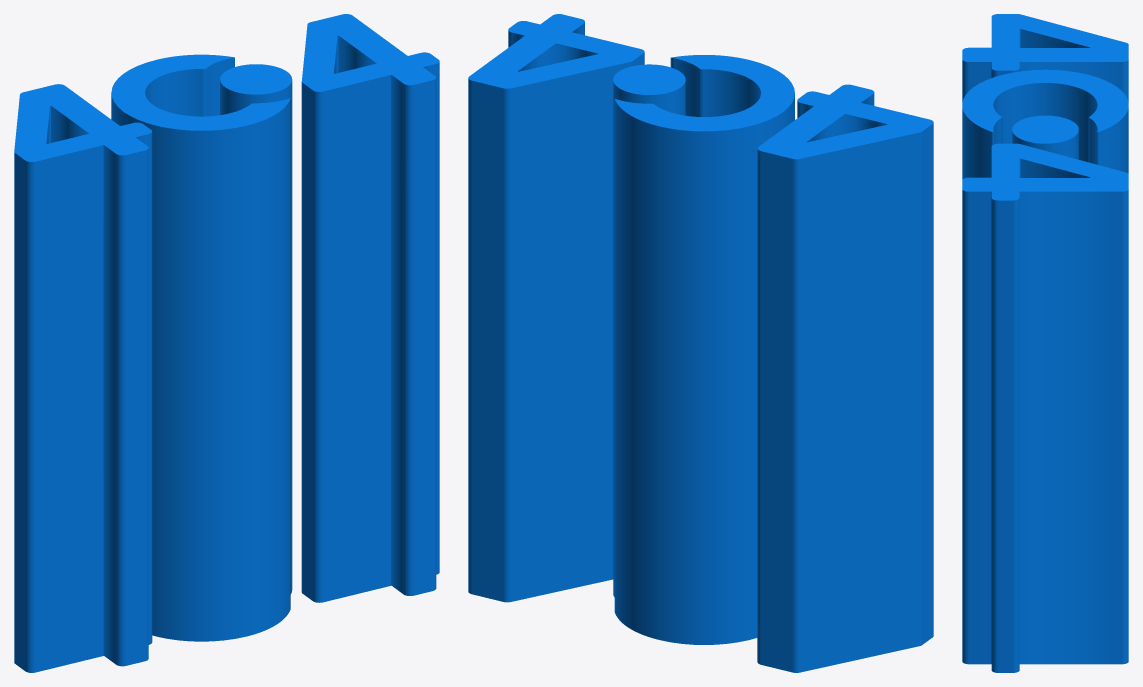
The picture shows the model from 3 angles, left to right: view 1: azimuth 30°, elevation 25°; view 2: azimuth 150°, elevation 25°; view 3: azimuth 270°, elevation 25°; orthographic projection. The views are drawn at different scales.
Visible parts, largest first — view 1: Curve.002, Curve, Curve.001; view 2: Curve, Curve.002, Curve.001; view 3: Curve.001, Curve.002, Curve.
Boxes of the visible parts, bbox=[...] form: Curve.002: bbox=[111, 54, 292, 641]; Curve: bbox=[14, 84, 152, 672]; Curve.001: bbox=[301, 14, 439, 602]; Curve: bbox=[757, 84, 933, 672]; Curve.002: bbox=[613, 55, 794, 644]; Curve.001: bbox=[468, 14, 644, 602]; Curve.001: bbox=[962, 143, 1128, 672]; Curve.002: bbox=[962, 69, 1128, 179]; Curve: bbox=[962, 14, 1128, 102].
Bounding box in the file's own units: 2.13 × 2.52 × 0.8054.
